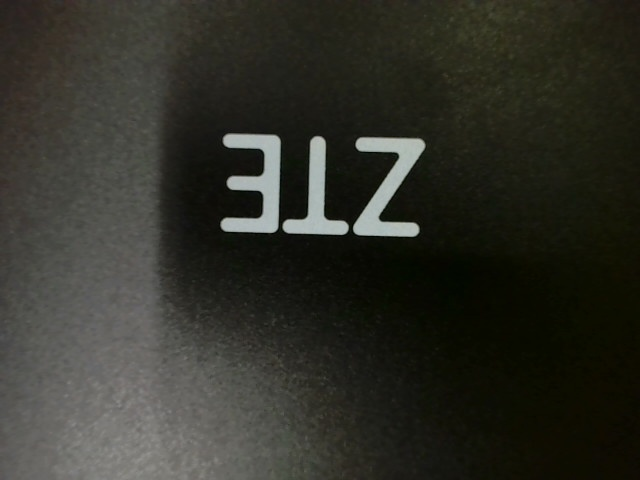AN_ZTE: (209, 120, 429, 248)
